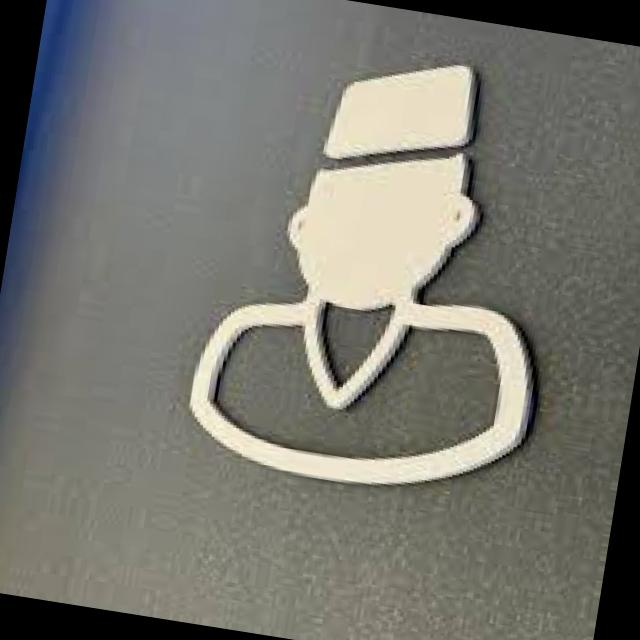surau_icon: (156, 19, 606, 532)
